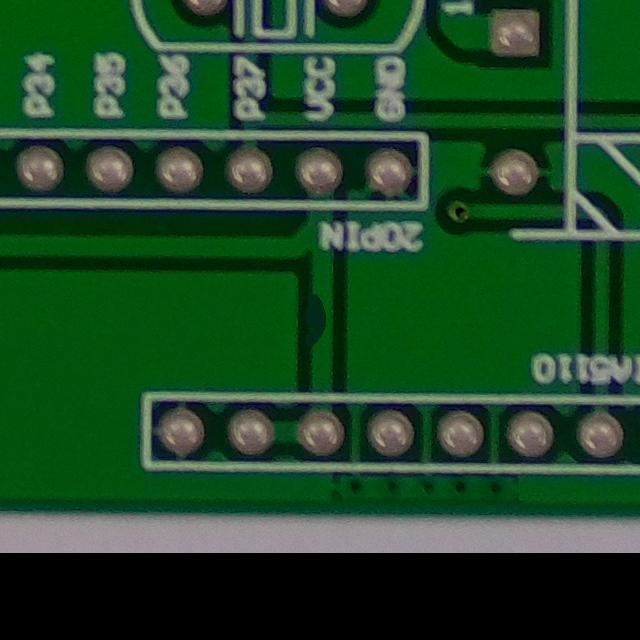mouse_bite: (300, 279, 341, 361)
